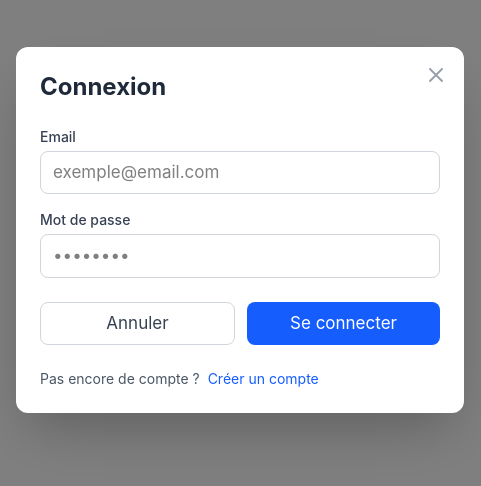
it: LoginModal › affiche un message d'erreur lors d'un échec de connexion
Type "test@example.com" into the field labelled "Email".
click(240, 173); type("test@example.com")  # box [40, 151, 440, 194]
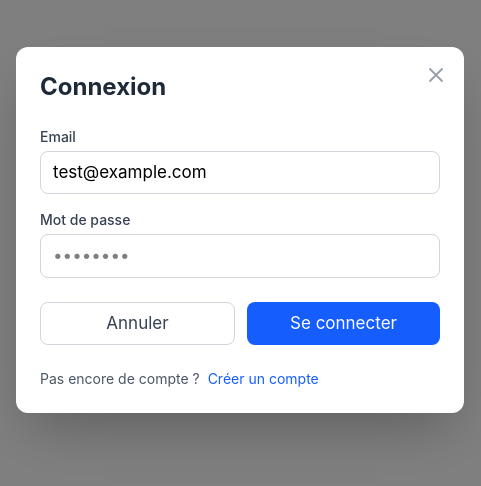
Type "wrongpassword" into the password field labelled "Mot de passe".
click(240, 256); type("wrongpassword")  # box [40, 234, 440, 278]
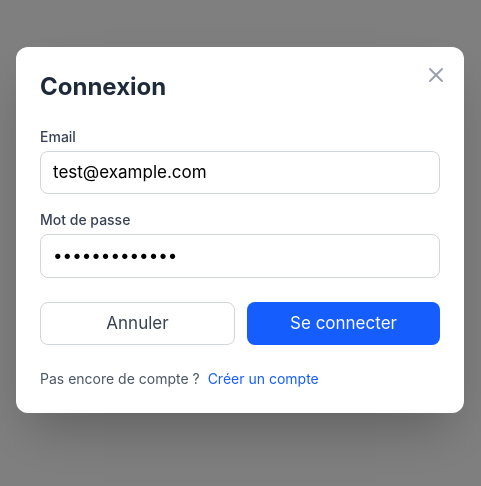
Submit the form, box [40, 127, 440, 389]
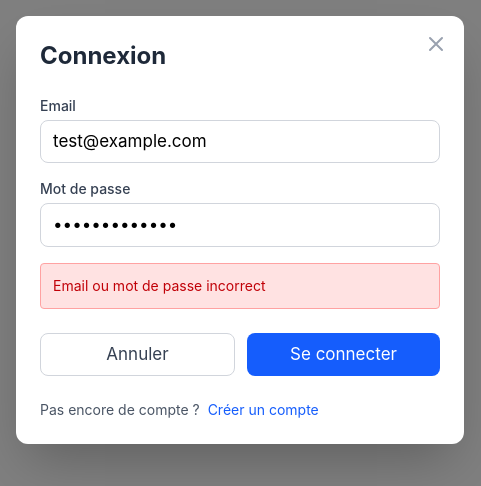
expect the text "Email ou mot de passe incorrect" is shown: met, box [40, 263, 440, 309]
